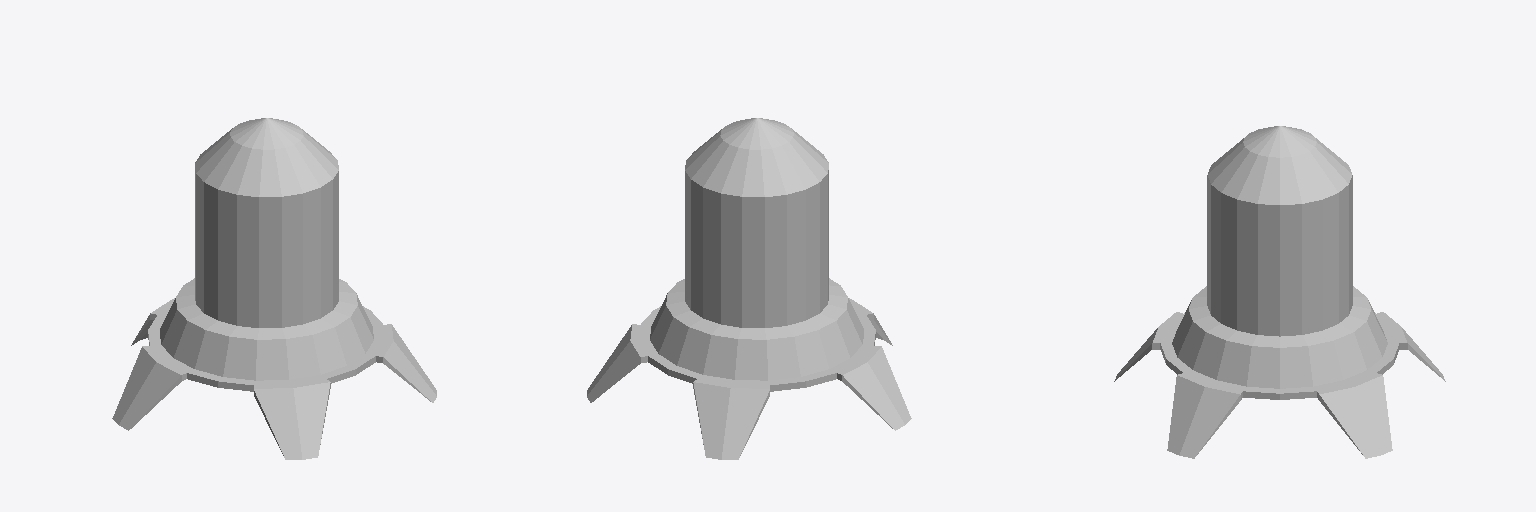
The model's file is heatdevice.obj.
The picture shows the model from 3 angles: view 1: azimuth 30°, elevation 25°; view 2: azimuth 150°, elevation 25°; view 3: azimuth 270°, elevation 25°; orthographic projection.
Parts seen in each view (by area): view 1: Circle; view 2: Circle; view 3: Circle.
Boxes of the visible parts, x1,y1,x2,y2 form: Circle: [112, 118, 436, 459]; Circle: [587, 118, 911, 459]; Circle: [1114, 126, 1445, 458].
Bounding box in the file's own units: 2.94 × 2.78 × 3.07.